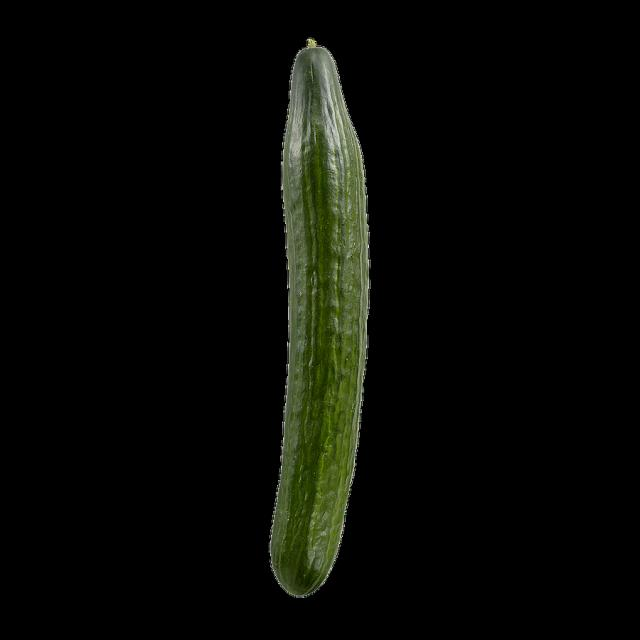Pickle: (270, 40, 369, 597)
